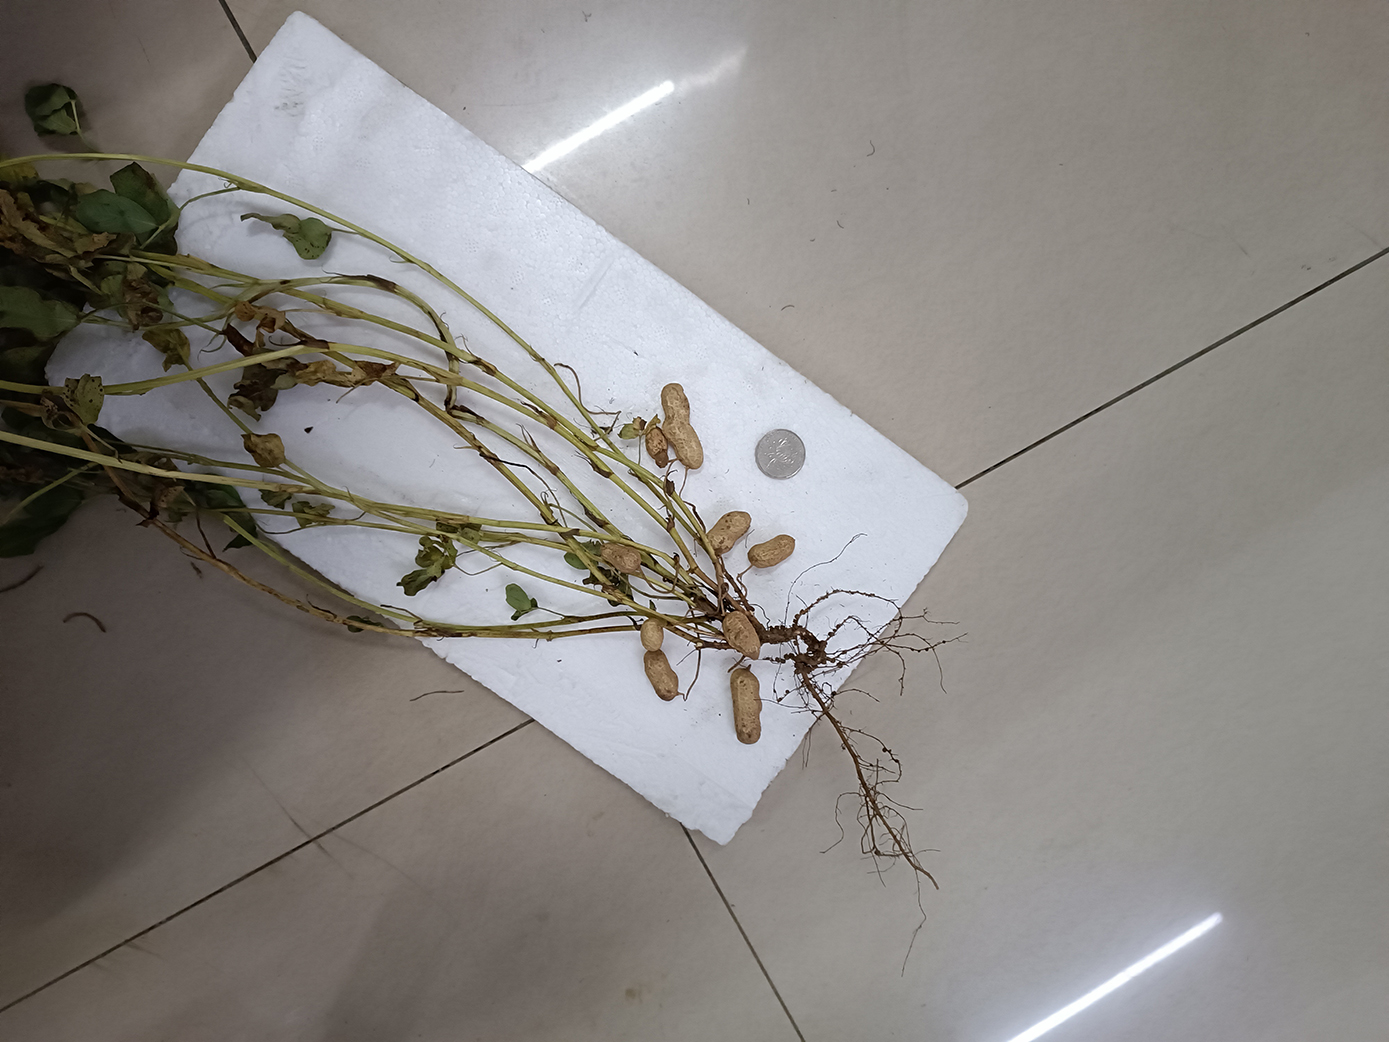h: (661, 381, 705, 470), (731, 668, 764, 745), (722, 610, 760, 659), (706, 511, 751, 551), (746, 535, 795, 570), (644, 651, 679, 699), (599, 542, 641, 574), (639, 616, 663, 650)
l: (644, 422, 671, 468)
